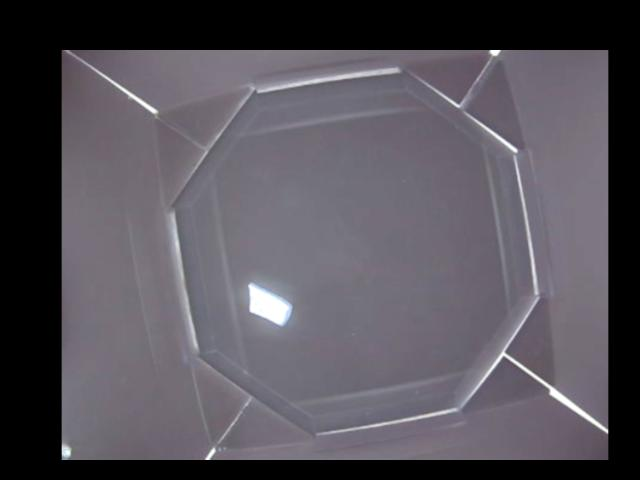China: (241, 278, 293, 325)
